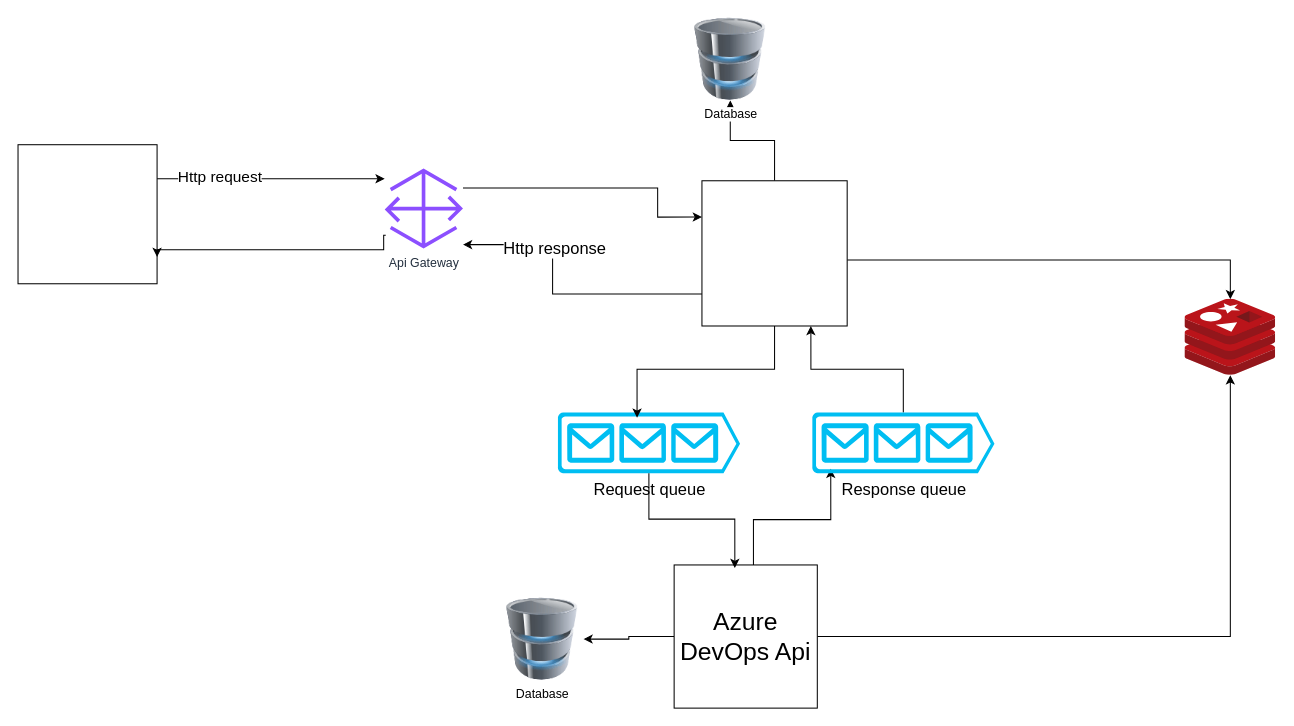
The diagram is 1294 pixels wide and 726 high, and some of its shapes have lost their labels. The shapes that lost their labels are listed below. From the top down, each one's centre as x and y in pixels, then its label:
At [87,214]: "Client App Blazor".
At [774,253]: "TimeLog Api".
At [1229,337]: "Redis cache".
